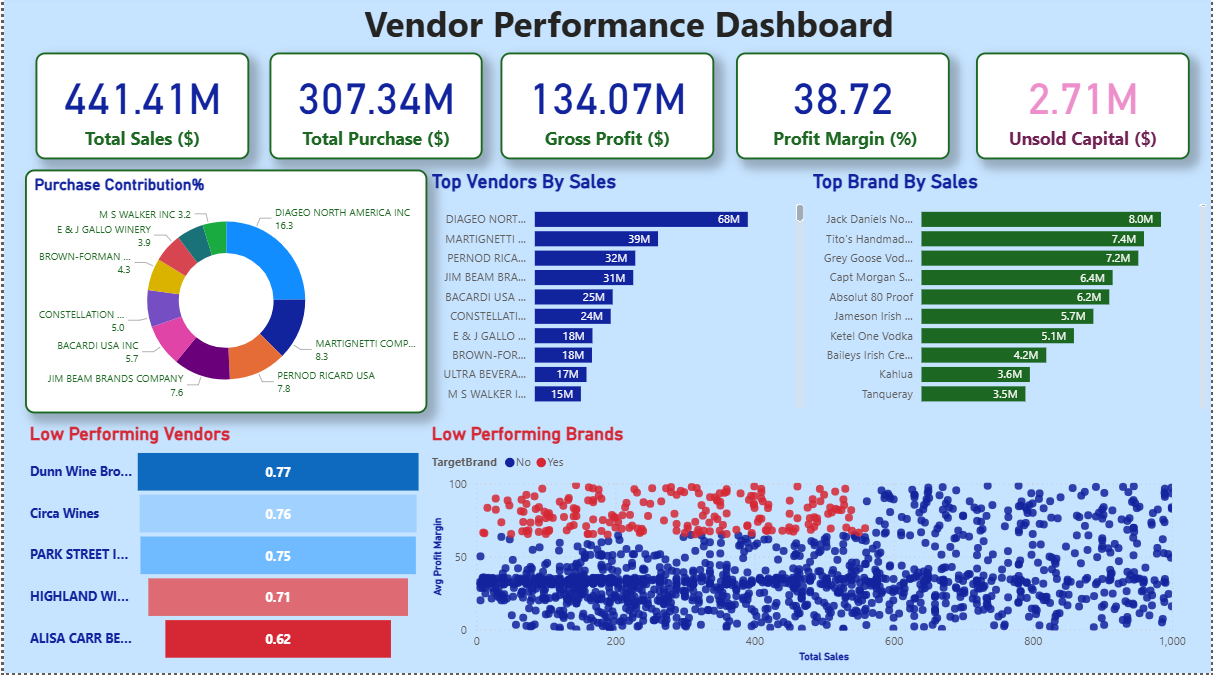

The page's visual inventory and layout, read from the dashboard file:
{"tool":"powerbi","page":{"name":"Page 2","canvas":[1280,720],"ordinal":0},"visuals":[{"type":"card","fields":{"Values":["Sum(vendor_sales_summary.TotalSalesDollars)"]},"box":[33.3,61.7,226.7,113.3],"z":0},{"type":"card","fields":{"Values":["Sum(vendor_sales_summary.TotalPurchaseDollars)"]},"box":[281.7,61.7,226,113.3],"z":1000},{"type":"card","fields":{"Values":["Sum(vendor_sales_summary.GrossProfit)"]},"box":[526.7,61.7,226.7,113.3],"z":2000},{"type":"card","fields":{"Values":["Avg(vendor_sales_summary.ProfitMargin)"]},"box":[776.7,61.7,226.7,113.3],"z":3000},{"type":"card","fields":{"Values":["Sum(vendor_sales_summary.UnsoldCapital)"]},"box":[1030,61.7,226.7,113.3],"z":4000},{"type":"donutChart","title":"Purchase Contribution% ","fields":{"Y":["Sum(PurchaseContribution.PurchaseContribution%)"],"Category":["PurchaseContribution.VendorName"]},"box":[21.7,186.7,426.7,258.3],"z":5000},{"type":"clusteredBarChart","title":"Top Vendors By Sales ","fields":{"Category":["vendor_sales_summary.VendorName"],"Y":["Sum(vendor_sales_summary.TotalSalesDollars)"]},"box":[448.6,186.1,404,259.3],"z":6000},{"type":"clusteredBarChart","title":"Top Brand By Sales","fields":{"Category":["vendor_sales_summary.Description"],"Y":["Sum(vendor_sales_summary.TotalSalesDollars)"]},"box":[852.6,186.1,427.9,259.3],"z":7000},{"type":"funnel","title":"Low Performing Vendors","fields":{"Category":["LowTurnoverVendor.VendorName"],"Y":["Avg(LowTurnoverVendor.AverageStockTurnOver)"]},"box":[22,455,427,258],"z":8000},{"type":"scatterChart","title":"Low Performing Brands","fields":{"Category":["BrandPerformance.Description"],"X":["Sum(BrandPerformance.TotalSales)"],"Y":["Sum(BrandPerformance.AverageProfitMargin)"],"Series":["BrandPerformance.TargetBrand"]},"box":[448.6,454.9,809.6,257.7],"z":9000},{"type":"textbox","box":[377,0,585.3,62],"z":10000}]}

Visuals, with their boxes in screenshot pixels (x1, y1, x2, y2), scaled from the page's 1280x720 canvas onto the 1213x675 screenshot:
card - Sum(vendor_sales_summary.TotalSalesDollars): bbox=(32, 58, 246, 164)
card - Sum(vendor_sales_summary.TotalPurchaseDollars): bbox=(267, 58, 481, 164)
card - Sum(vendor_sales_summary.GrossProfit): bbox=(499, 58, 714, 164)
card - Avg(vendor_sales_summary.ProfitMargin): bbox=(736, 58, 951, 164)
card - Sum(vendor_sales_summary.UnsoldCapital): bbox=(976, 58, 1191, 164)
"Purchase Contribution% " donutChart: bbox=(21, 175, 425, 417)
"Top Vendors By Sales " clusteredBarChart: bbox=(425, 174, 808, 418)
"Top Brand By Sales" clusteredBarChart: bbox=(808, 174, 1212, 418)
"Low Performing Vendors" funnel: bbox=(21, 427, 425, 668)
"Low Performing Brands" scatterChart: bbox=(425, 426, 1192, 668)
textbox: bbox=(357, 0, 912, 58)
